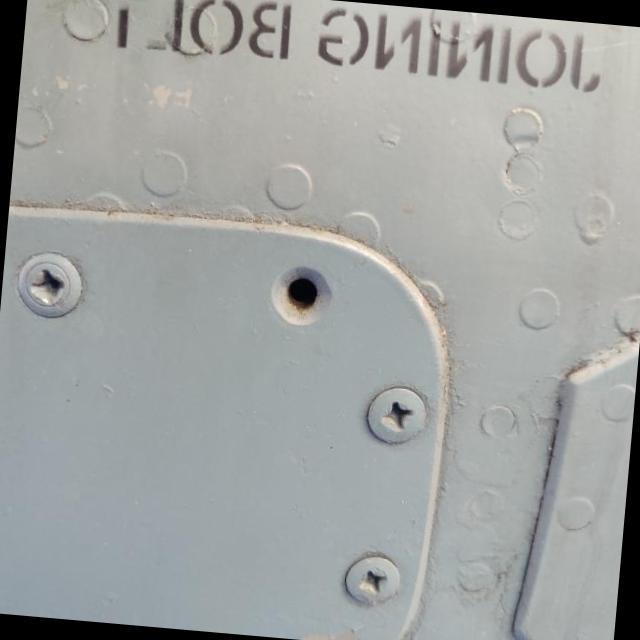Fastener Damage: (252, 244, 352, 346)
